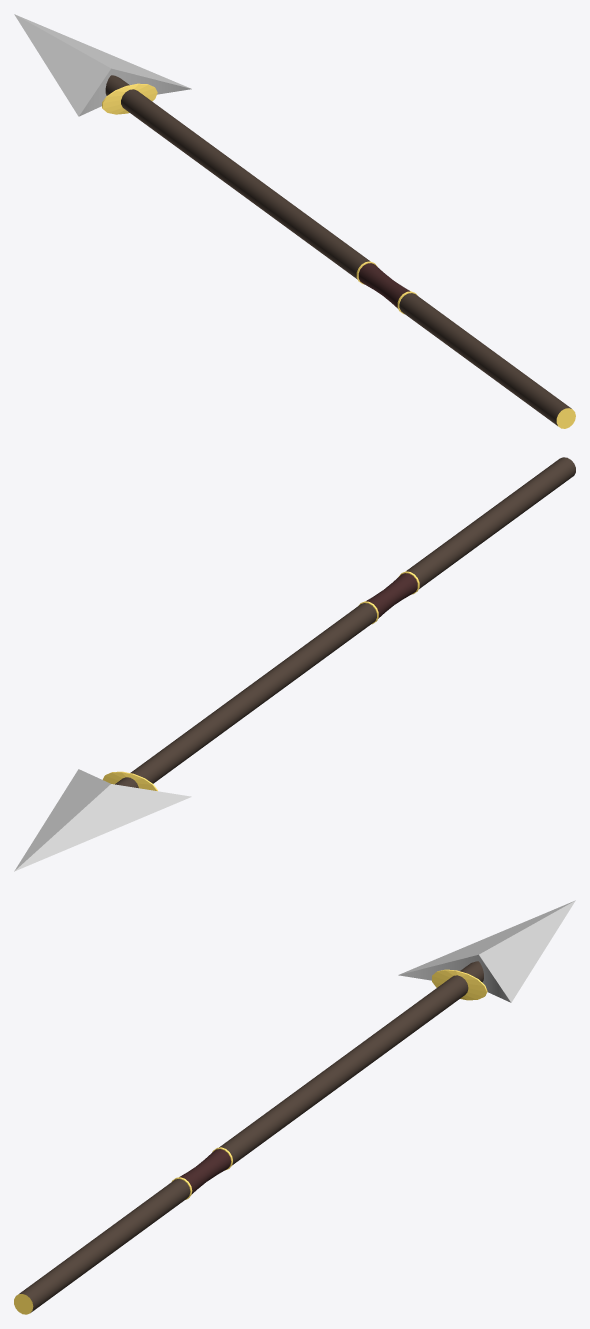
File: spear.fbx
3 views of the same model, one above another, from view 1: azimuth 30°, elevation 25°; view 2: azimuth 150°, elevation 25°; view 3: azimuth 330°, elevation 25° (orthographic).
Parts seen in each view (by area): view 1: pCylinder7; view 2: pCylinder7; view 3: pCylinder7.
Boxes of the visible parts, x1,y1,x2,y2 form: pCylinder7: [14, 14, 575, 428]; pCylinder7: [14, 457, 575, 871]; pCylinder7: [14, 900, 575, 1314].
Size of the model in its own units: 1.79 by 0.5033 by 15.09.
